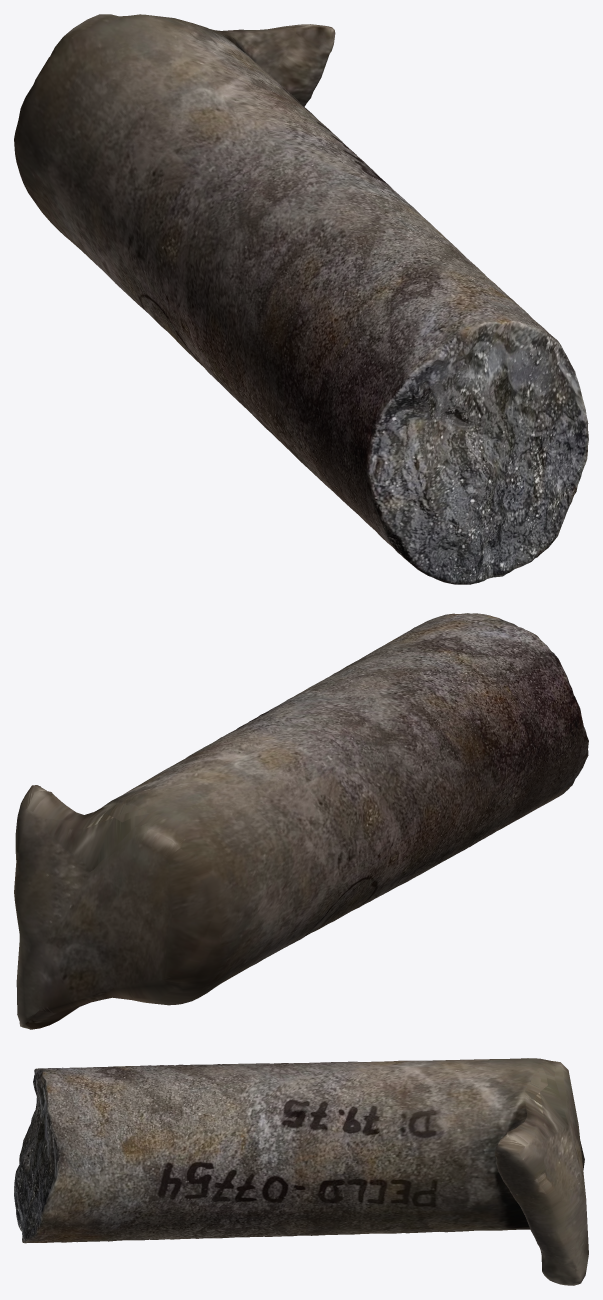
File: PECLD07754 T2.GLB
3 views of the same model, one above another, from view 1: azimuth 30°, elevation 25°; view 2: azimuth 150°, elevation 25°; view 3: azimuth 270°, elevation 25° (orthographic). The views are drawn at different scales.
Visible parts, largest first — view 1: baked_mesh; view 2: baked_mesh; view 3: baked_mesh.
Part boxes in pixels (bbox=[...]): baked_mesh: bbox=[14, 14, 588, 584]; baked_mesh: bbox=[14, 613, 588, 1029]; baked_mesh: bbox=[14, 1058, 588, 1285].
Bounding box in the file's own units: 0.3034 × 0.2506 × 0.7156.
1 material, 1 textured.
